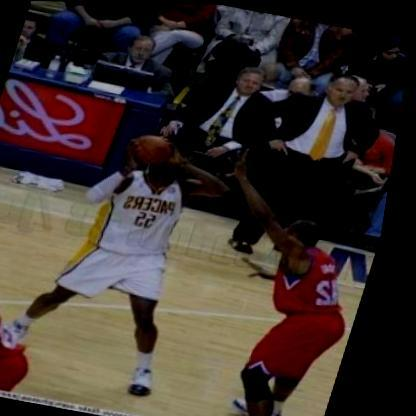basketball: (128, 127, 187, 172)
